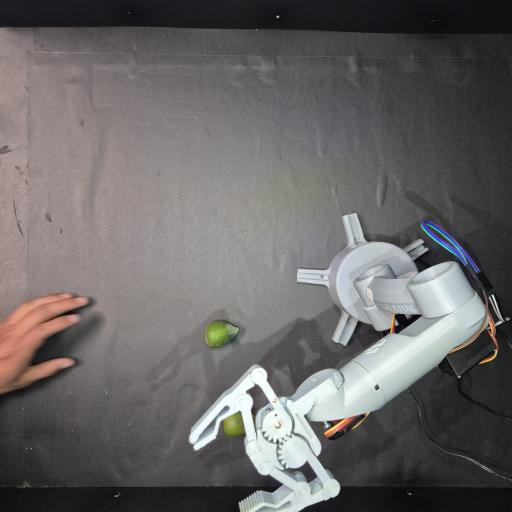higo: (205, 320, 239, 348), (223, 412, 245, 437)
